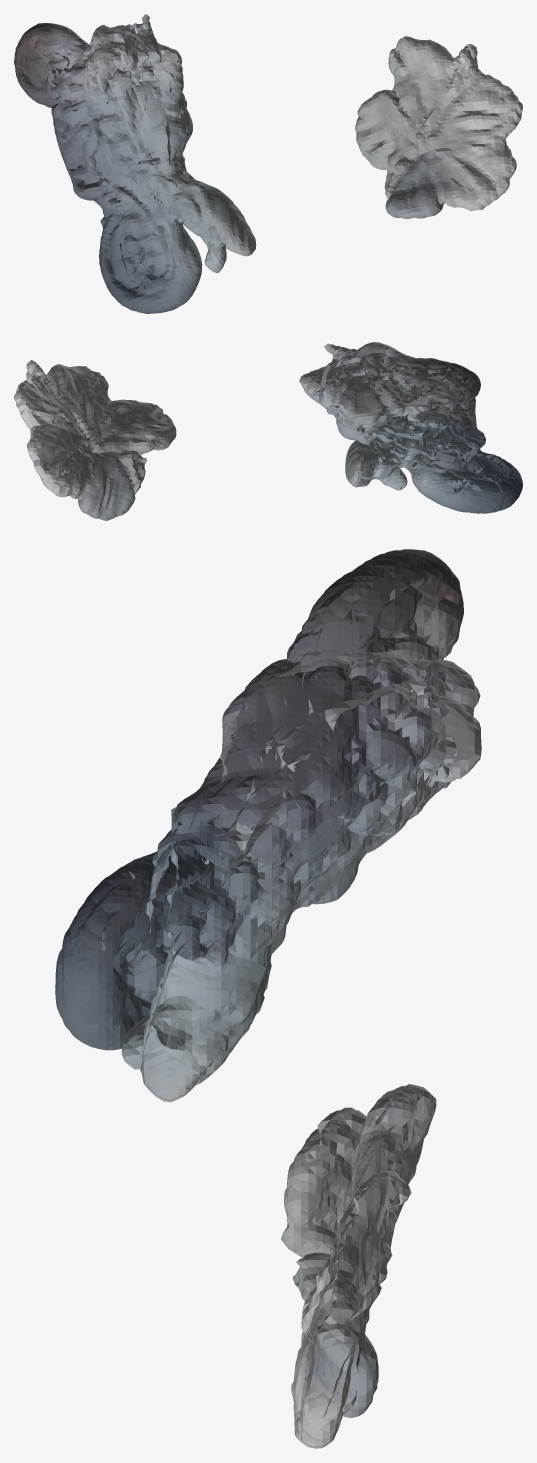
3 renders of one model, top to bottom at view 1: azimuth 30°, elevation 25°; view 2: azimuth 150°, elevation 25°; view 3: azimuth 270°, elevation 25°, orthographic. The views are drawn at different scales.
Visible parts, largest first — view 1: world; view 2: world; view 3: world.
Boxes of the visible parts, x1,y1,x2,y2 form: world: (14,14,522,313); world: (14,342,522,520); world: (55,549,481,1448).
Bounding box in the file's own units: 1.03 × 0.5312 × 0.4019.
